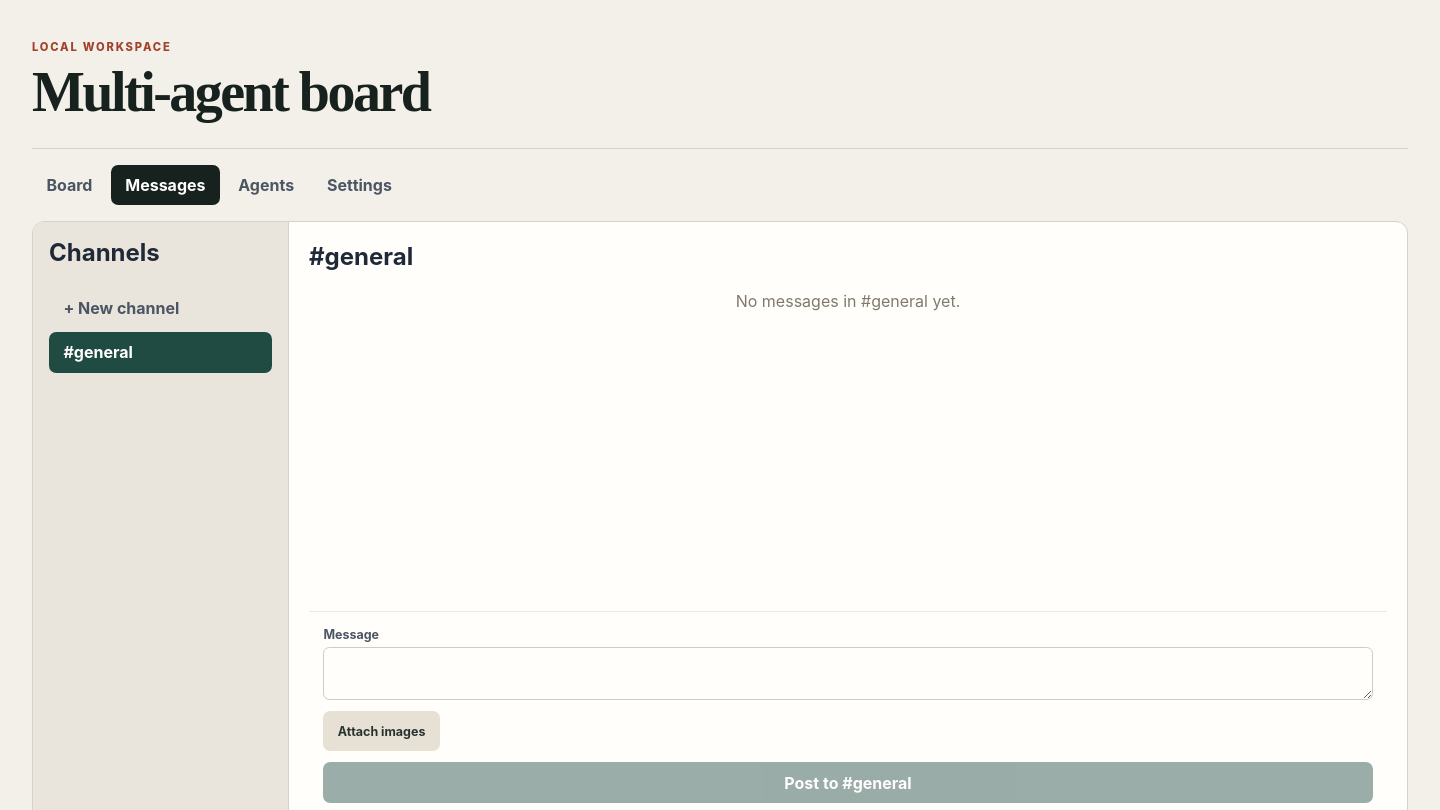
Test: App agent routes › merges board messages without treating agent-thread messages as channel posts
Expected: the text "No messages in #general yet." is shown, 736,291 -> 960,311
In the text box labelled "Message": (848, 674) 323,647 -> 1373,700, type "Unsent reply"
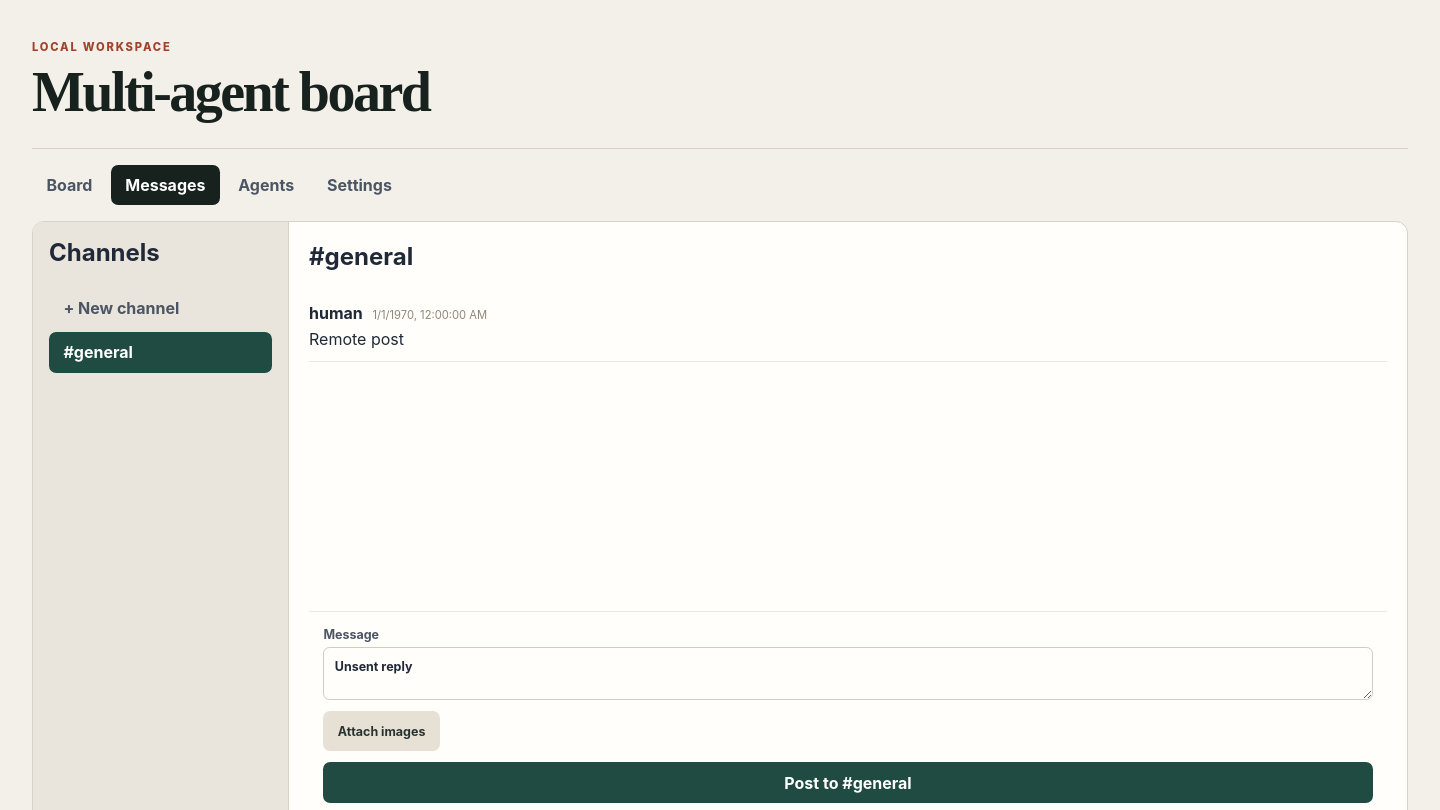
Result: the text "Remote post" is shown once at 309,329 -> 404,349
